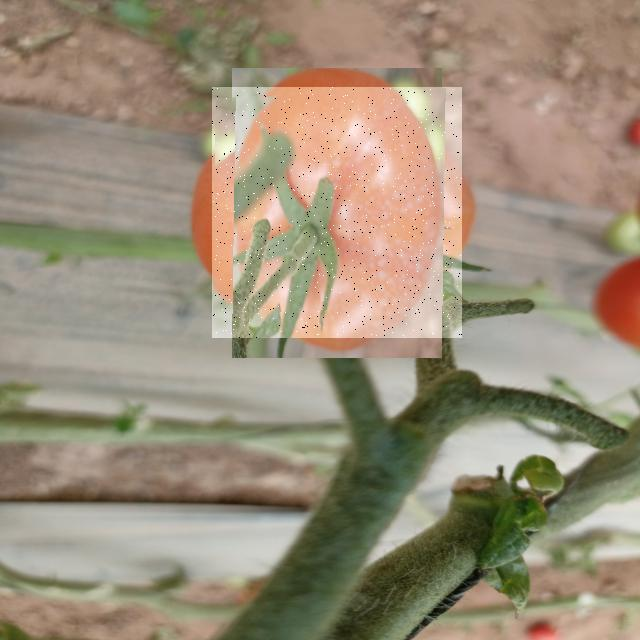Ripe Tomato: (212, 87, 462, 338)
